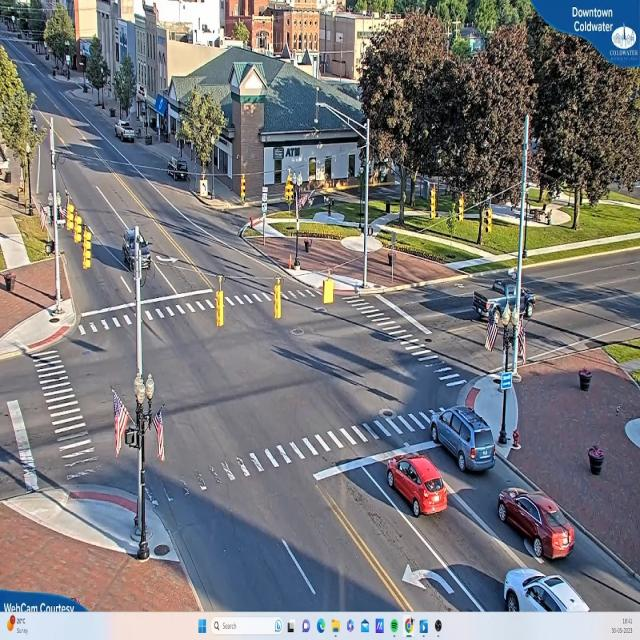car: (497, 491, 577, 564), (502, 570, 606, 612), (430, 408, 497, 472), (387, 455, 449, 519), (469, 278, 541, 321), (121, 228, 153, 274), (587, 444, 605, 474), (116, 123, 136, 143)
